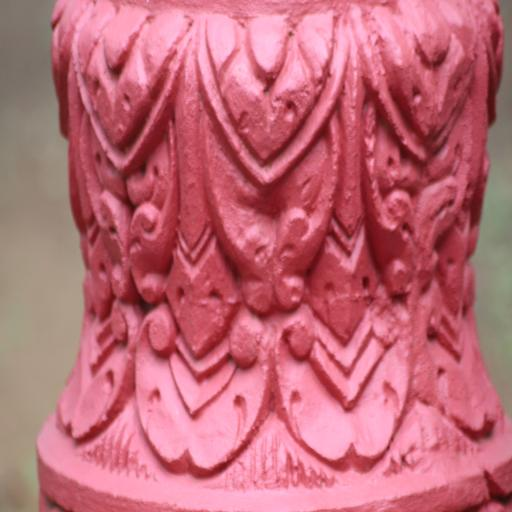la: (196, 15, 342, 313), (357, 18, 473, 300), (74, 19, 192, 295), (140, 299, 270, 481), (275, 310, 418, 474), (422, 298, 502, 455), (57, 291, 141, 439)
